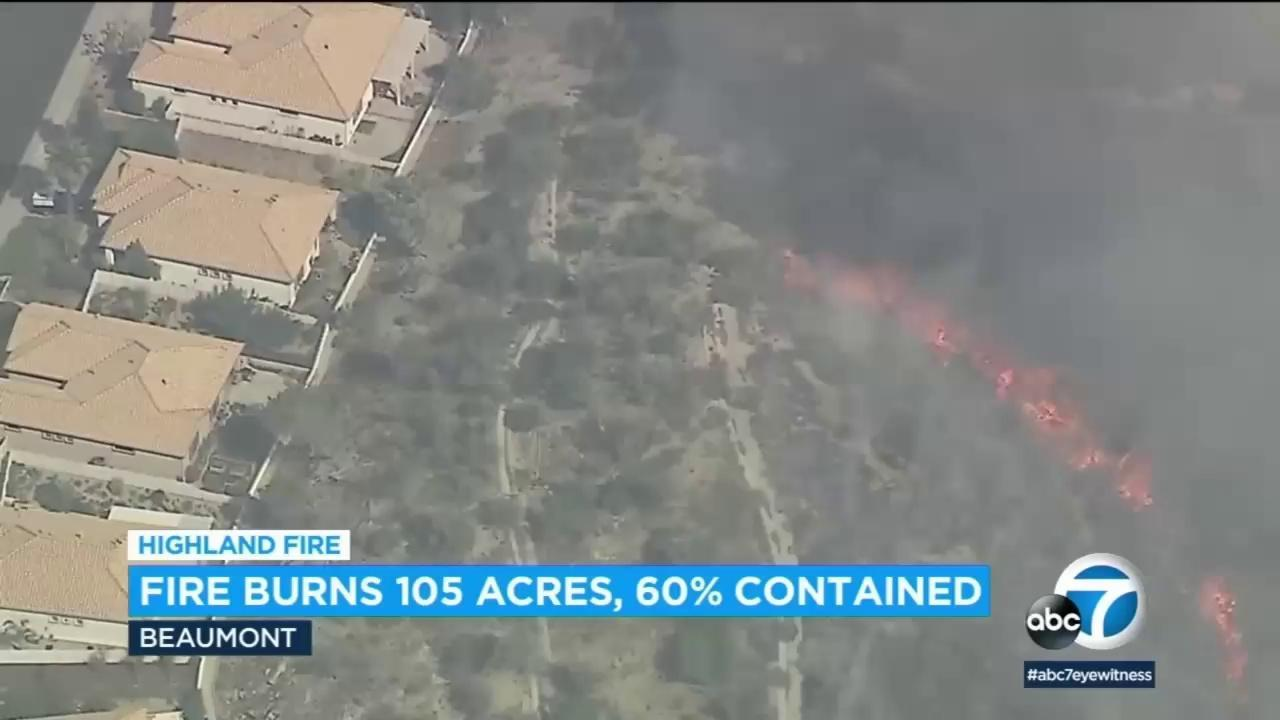fire: (973, 347, 1154, 515), (785, 246, 965, 360), (1197, 575, 1250, 681)
smoke: (672, 0, 1280, 720)
